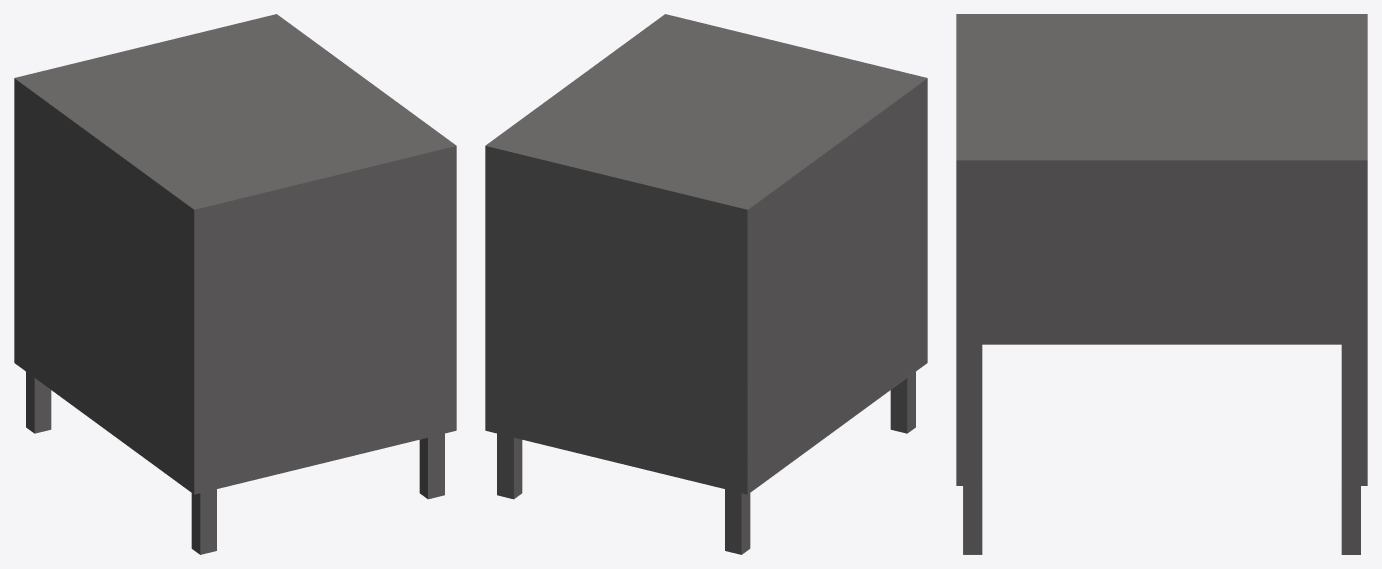
The model's file is DeskVariantTwo.fbx.
3 views of the same model, side by side, from view 1: azimuth 30°, elevation 25°; view 2: azimuth 150°, elevation 25°; view 3: azimuth 270°, elevation 25° (orthographic). The views are drawn at different scales.
Parts seen in each view (by area): view 1: DeskTwoVariant; view 2: DeskTwoVariant; view 3: DeskTwoVariant.
Part boxes in pixels (x1,y1,x2,y2): DeskTwoVariant: [14, 14, 456, 554]; DeskTwoVariant: [485, 14, 927, 554]; DeskTwoVariant: [956, 14, 1367, 554].
Bounding box in the file's own units: 200 × 254 × 238.
